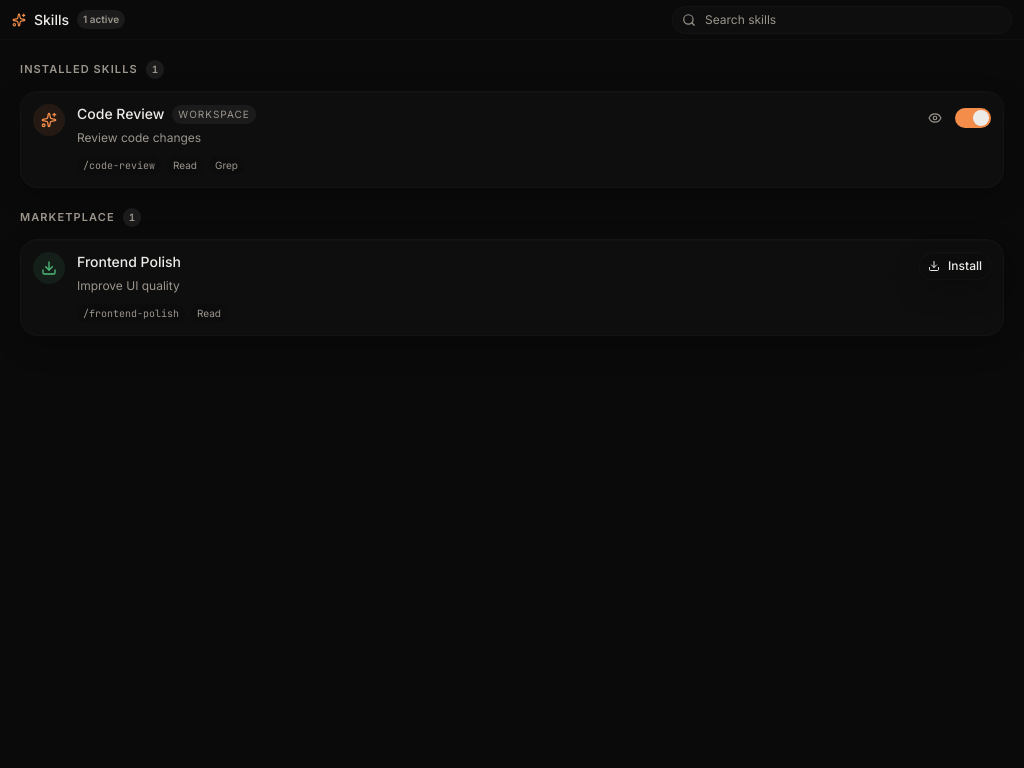
SkillsWorkspace › opens skill detail in a floating dialog
Click the button named "view code review" at {"x": 935, "y": 118}, box [921,104,949,132]
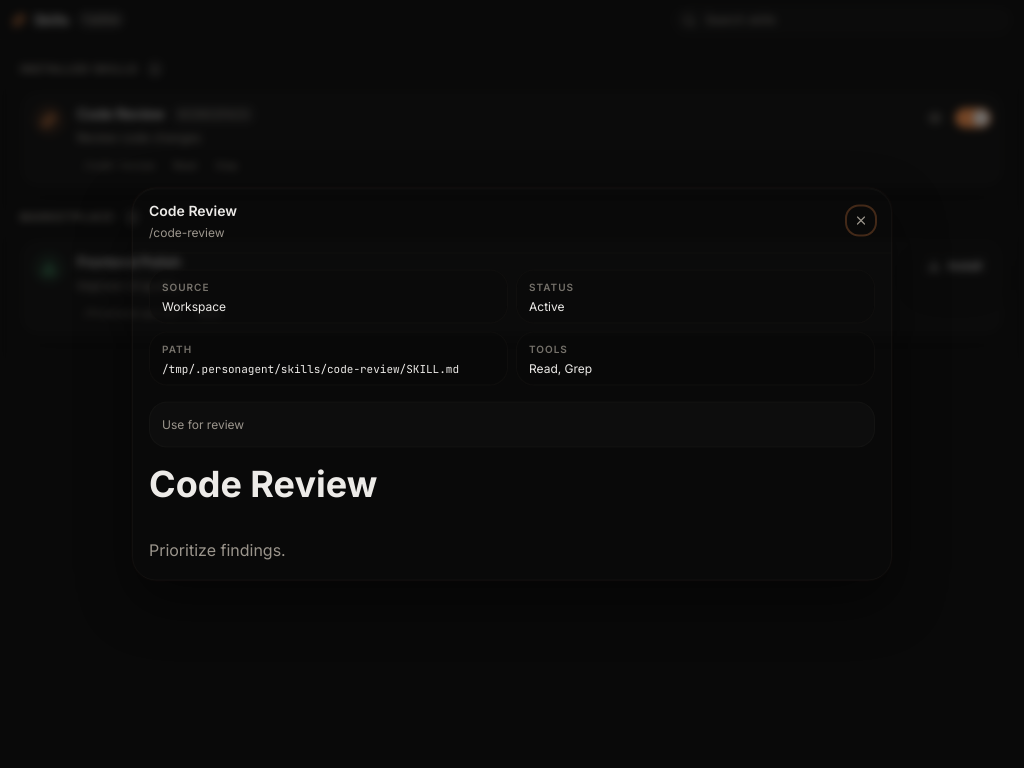
Result: the dialog is shown at [132,188,892,580]
Result: the text "Prioritize findings." is shown at [149,540,286,560]
